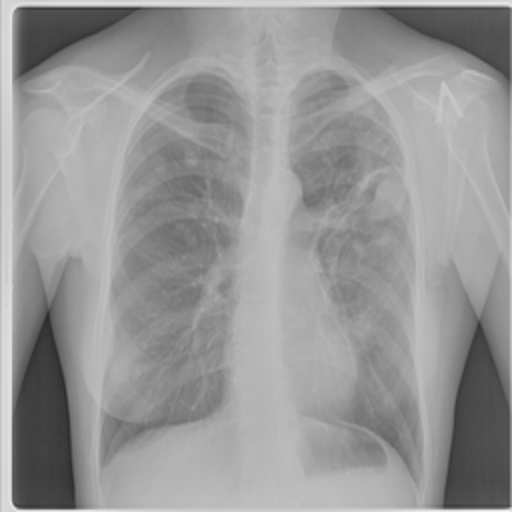TB: (320, 171, 409, 239)
